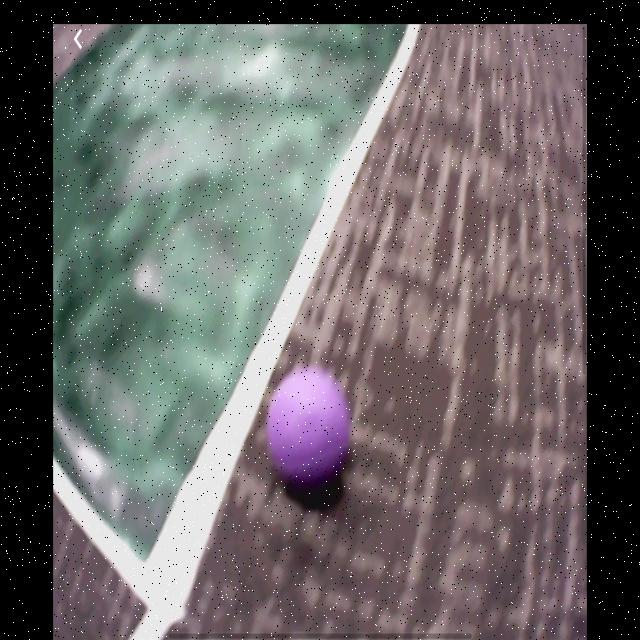ball: (270, 373, 351, 484)
